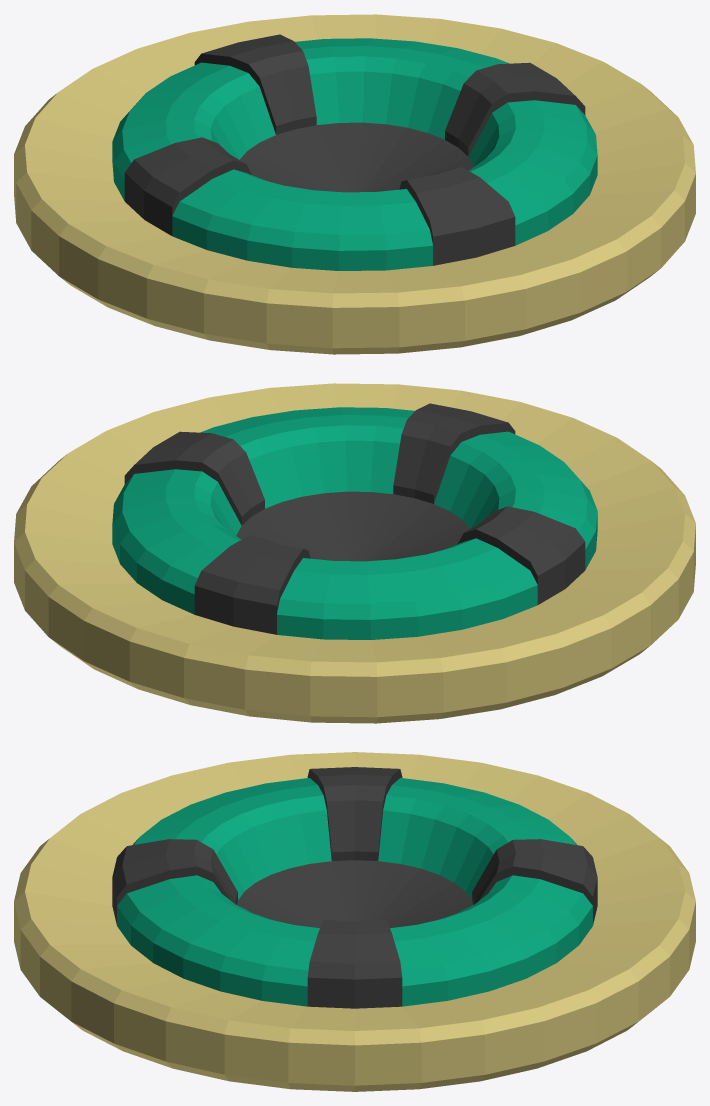
Rendered from Spawner.fbx.
3 views of the same model, one above another, from view 1: azimuth 30°, elevation 25°; view 2: azimuth 150°, elevation 25°; view 3: azimuth 270°, elevation 25° (orthographic).
Parts seen in each view (by area): view 1: Cylinder; view 2: Cylinder; view 3: Cylinder.
Boxes of the visible parts, x1=… form: Cylinder: x1=14, y1=14, x2=695, y2=354; Cylinder: x1=14, y1=383, x2=695, y2=723; Cylinder: x1=14, y1=752, x2=695, y2=1091.
Size of the model in its own units: 200 by 32.43 by 200.
